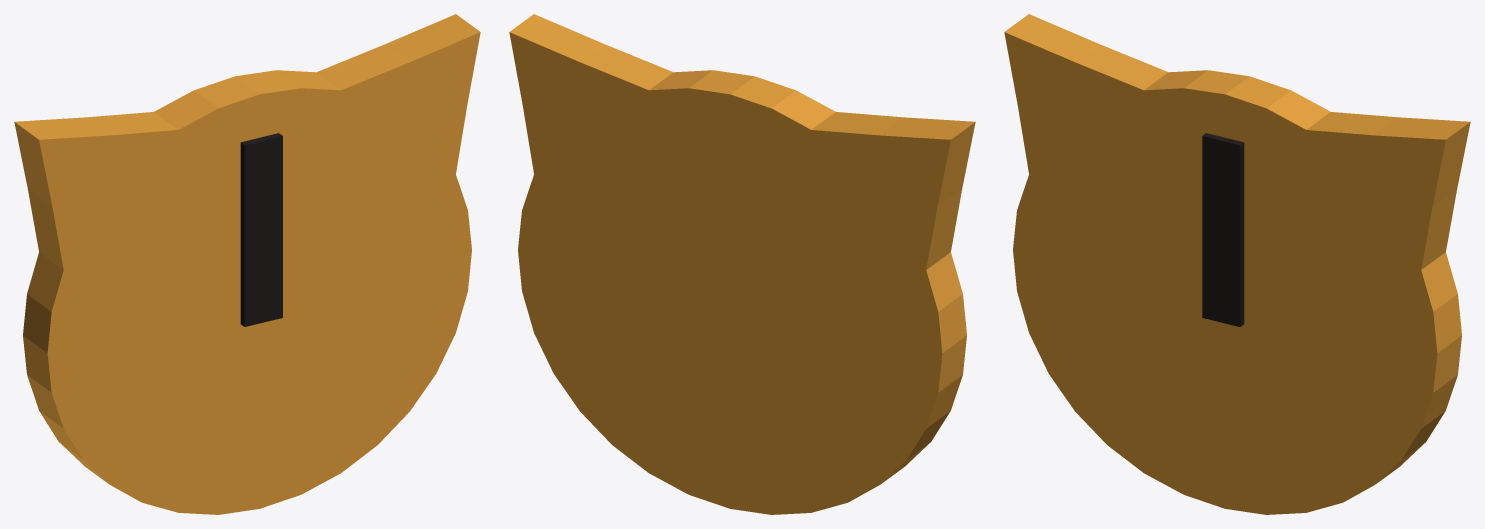
The model's file is dialKnob.fbx.
The picture shows the model from 3 angles, left to right: view 1: azimuth 30°, elevation 25°; view 2: azimuth 150°, elevation 25°; view 3: azimuth 330°, elevation 25°; orthographic projection.
Parts seen in each view (by area): view 1: CatDials, DialKnob; view 2: CatDials; view 3: CatDials, DialKnob.
Boxes of the visible parts, x1=… form: CatDials: x1=14, y1=14, x2=480, y2=514; DialKnob: x1=240, y1=133, x2=282, y2=326; CatDials: x1=509, y1=14, x2=975, y2=514; CatDials: x1=1004, y1=14, x2=1470, y2=514; DialKnob: x1=1202, y1=133, x2=1244, y2=326.
Bounding box in the file's own units: 98.75 × 90.35 × 11.13.
